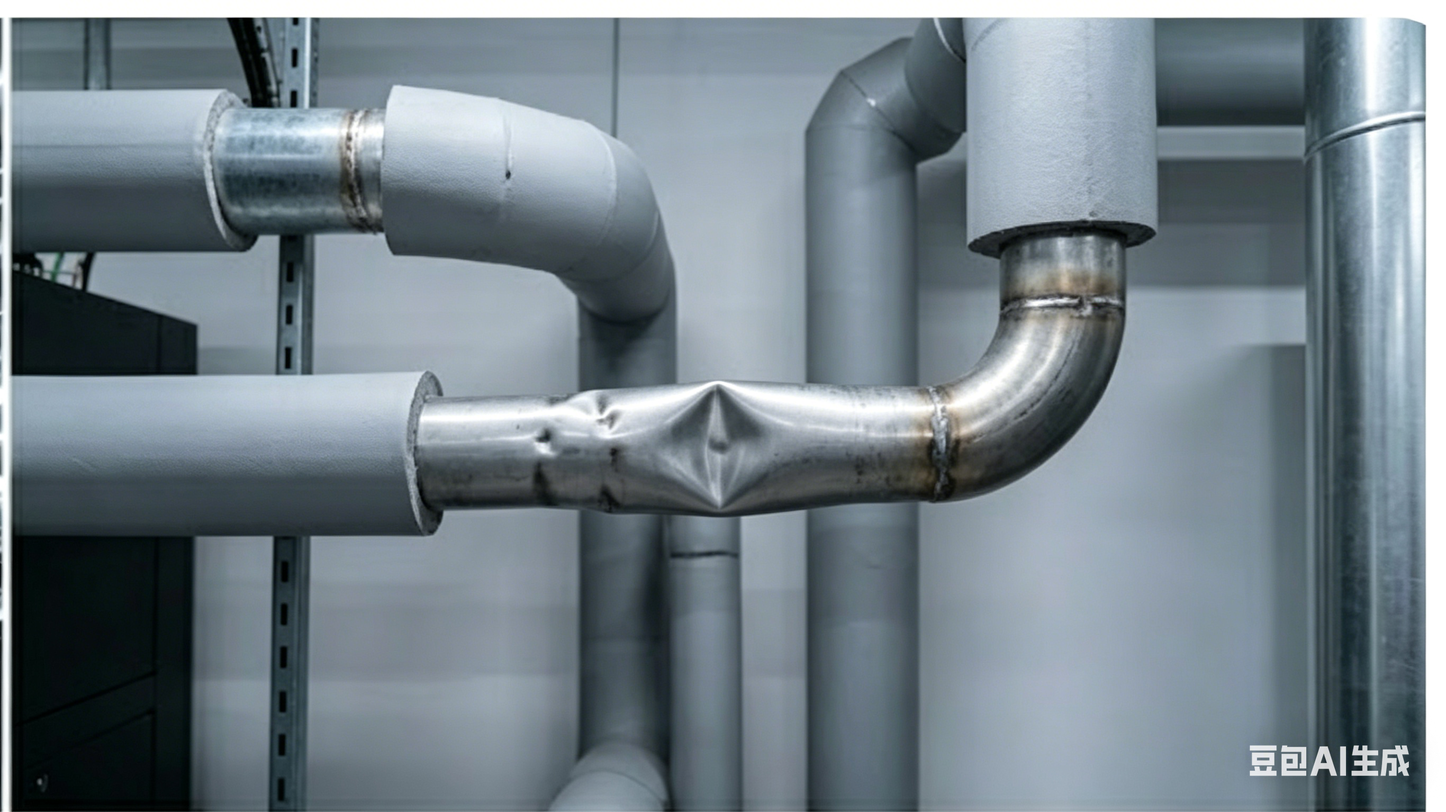Leakage: (653, 384, 776, 520), (527, 390, 634, 514)
